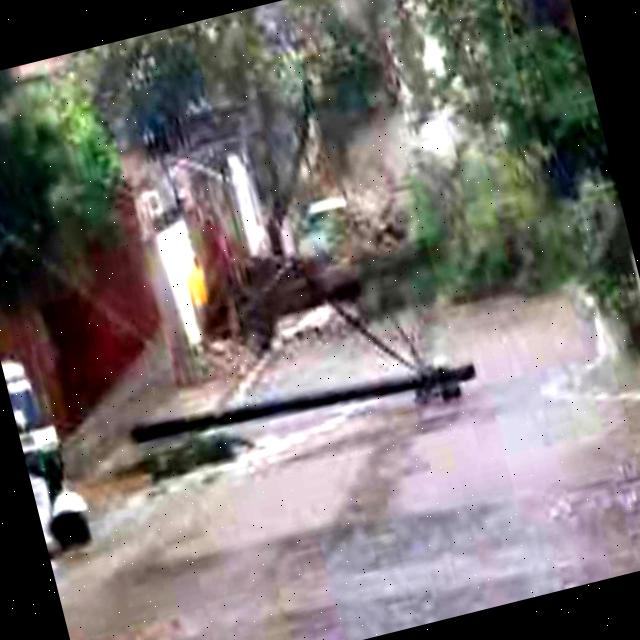Broken Pole: (125, 356, 479, 446)
